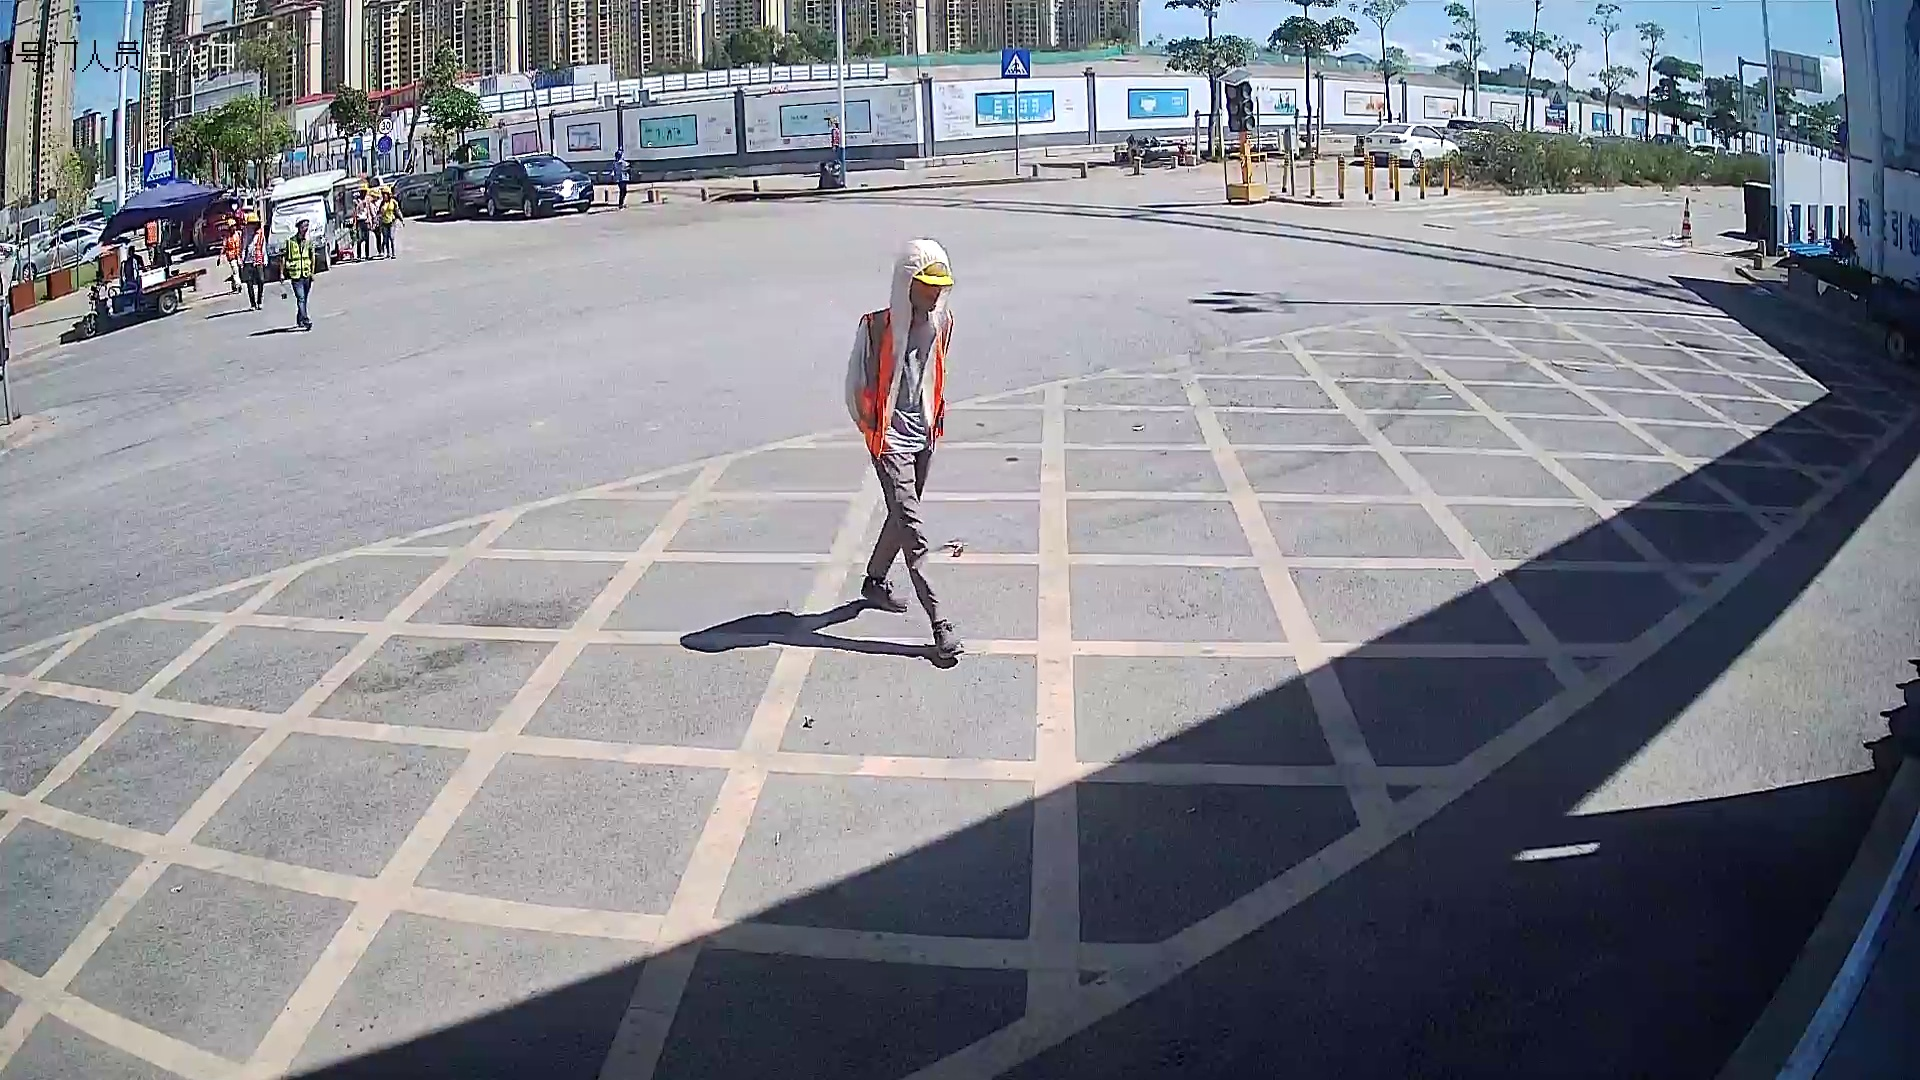head: (891, 237, 955, 310)
ordinary_clothes: (858, 310, 950, 458)
person: (839, 236, 968, 666), (279, 214, 317, 331), (235, 212, 267, 314), (215, 217, 243, 295)
reflective_vest: (851, 304, 893, 456), (285, 234, 312, 279), (225, 232, 241, 260)
safety_helmet: (245, 210, 261, 229), (295, 213, 310, 235), (227, 216, 238, 233)
